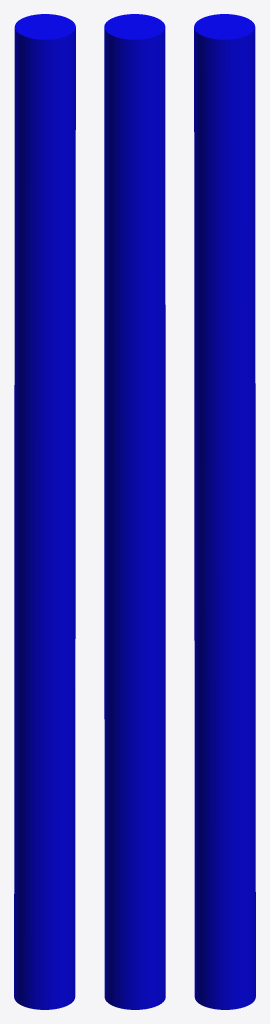
The model's file is entity.gltf.
The picture shows the model from 3 angles, left to right: view 1: azimuth 90°, elevation 25°; view 2: azimuth 210°, elevation 25°; view 3: azimuth 270°, elevation 25°; orthographic projection.
Size of the model in its own units: 2 by 35 by 2.02.
